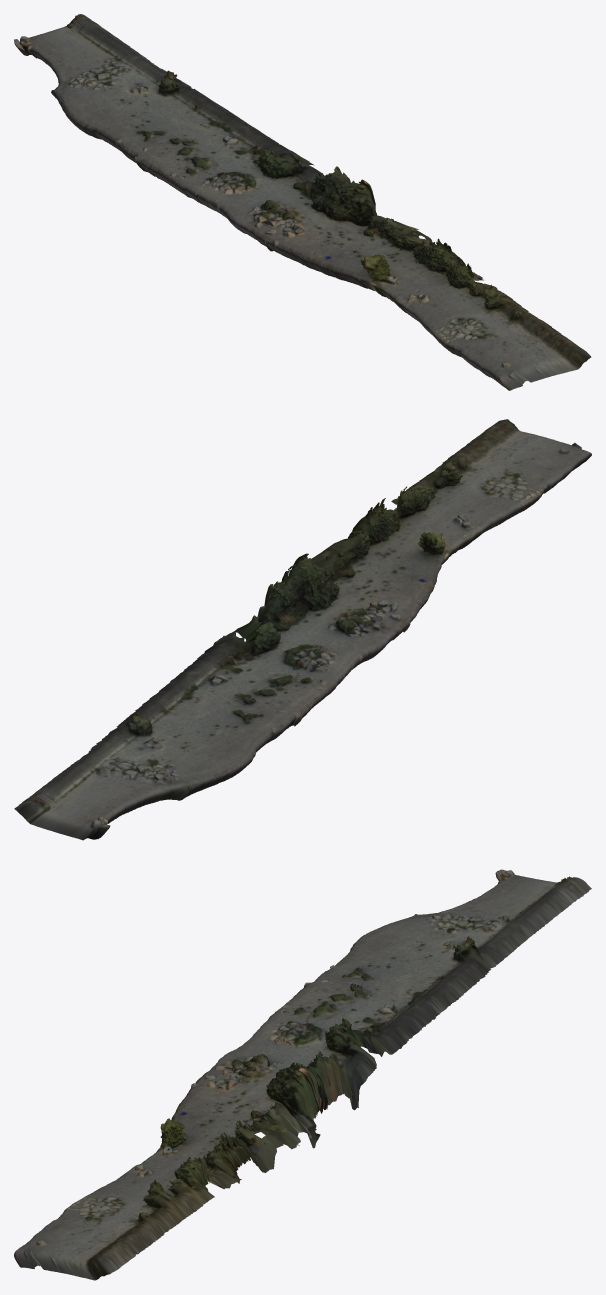
File: run4_p4_c3.glb
The picture shows the model from 3 angles, top to bottom: view 1: azimuth 30°, elevation 25°; view 2: azimuth 150°, elevation 25°; view 3: azimuth 330°, elevation 25°; orthographic projection. The views are drawn at different scales.
Parts seen in each view (by area): view 1: run4_p4_straight_c3; view 2: run4_p4_straight_c3; view 3: run4_p4_straight_c3.
Boxes of the visible parts, x1,y1,x2,y2 form: run4_p4_straight_c3: [14, 14, 591, 390]; run4_p4_straight_c3: [14, 419, 591, 840]; run4_p4_straight_c3: [14, 869, 591, 1280].
Size of the model in its own units: 18.49 by 7.96 by 99.99.
Materials: 1 (1 with a texture image).
